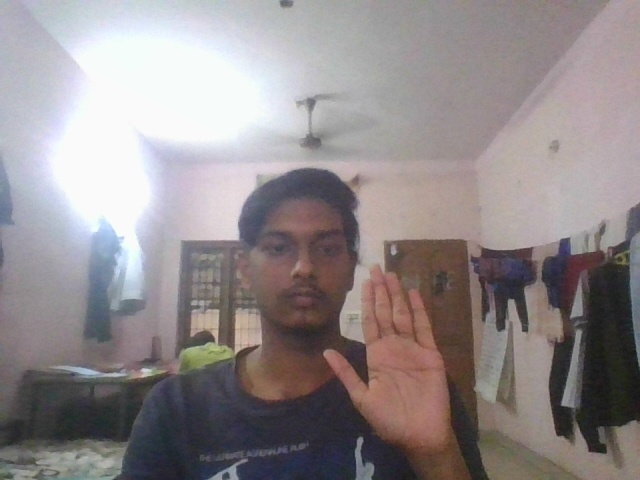hello: (326, 261, 465, 456)
